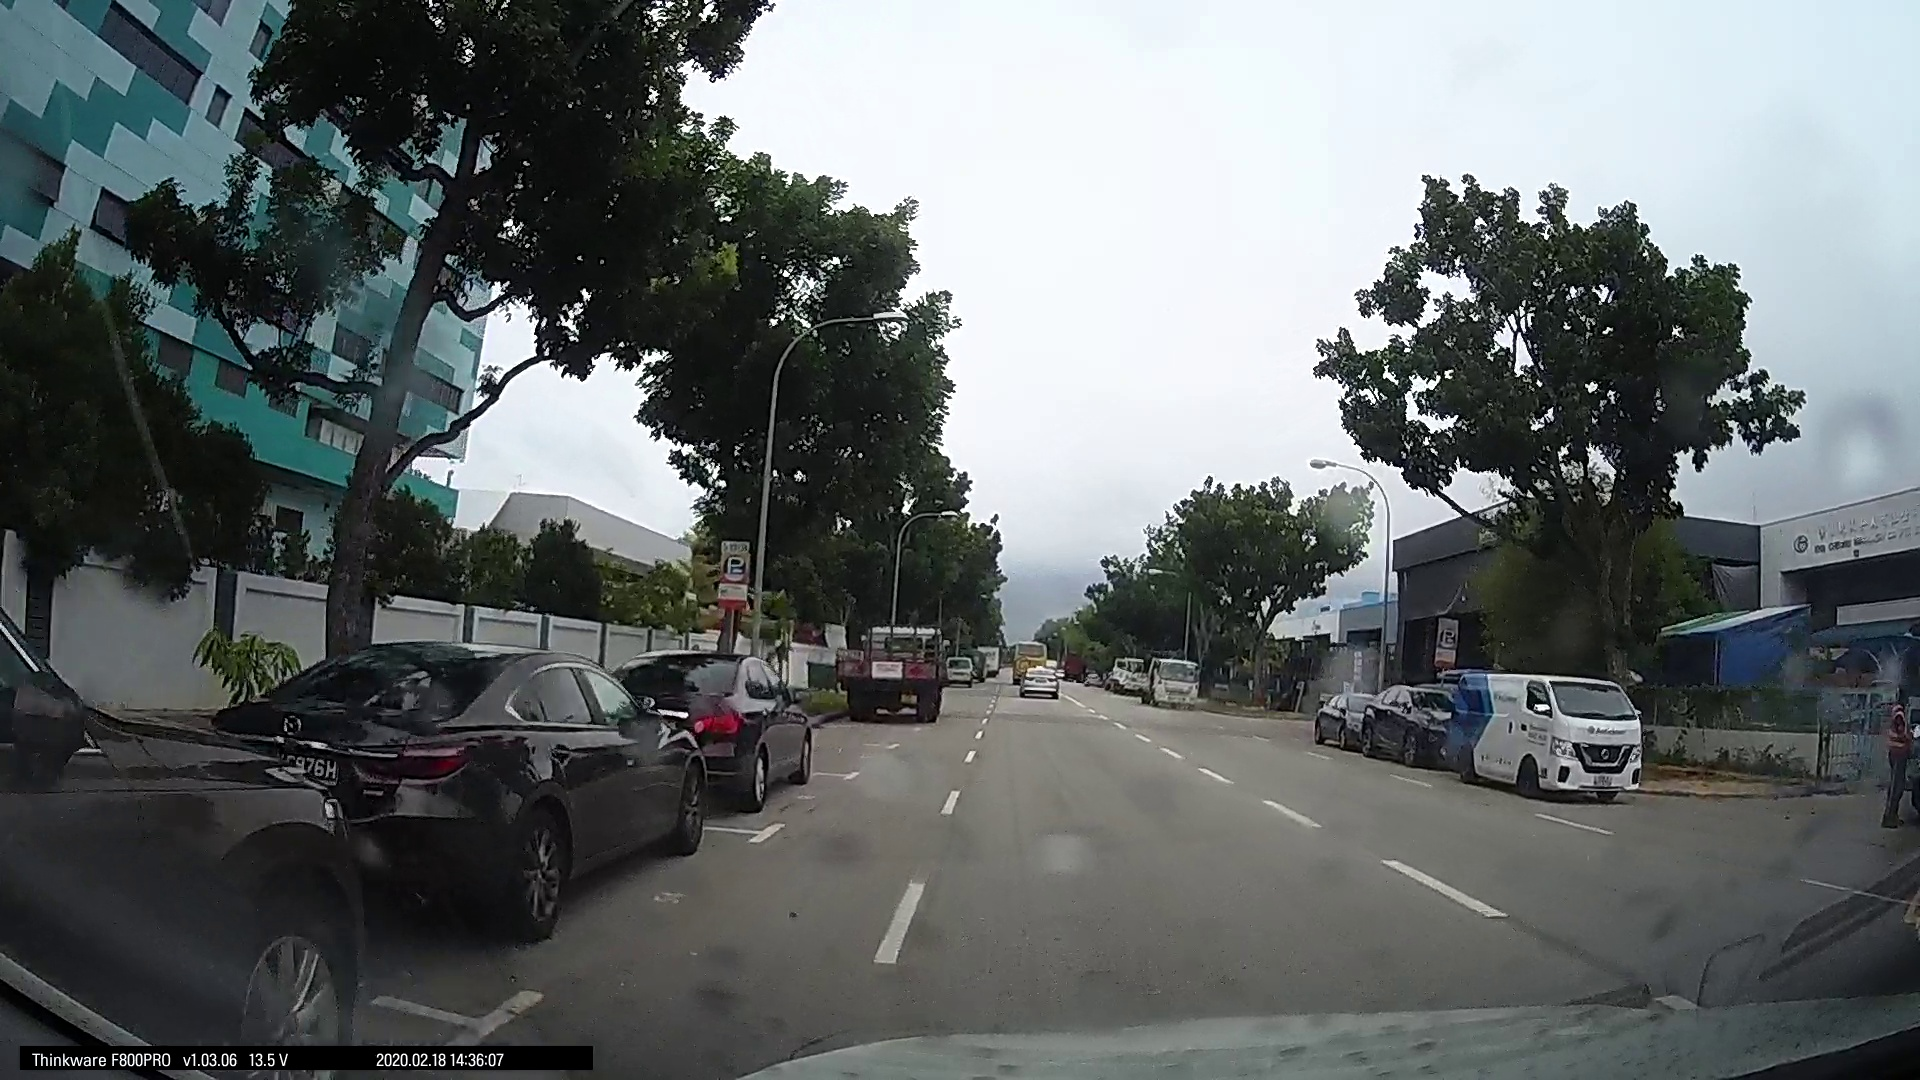Heavy Vehicle: (843, 622, 944, 717)
Light Vehicle: (11, 626, 464, 1001), (218, 637, 712, 928), (618, 642, 815, 812), (1448, 665, 1643, 800), (847, 620, 944, 717), (1370, 680, 1462, 766), (1308, 682, 1386, 752), (1138, 651, 1199, 708), (1010, 653, 1059, 698), (942, 647, 978, 683)
